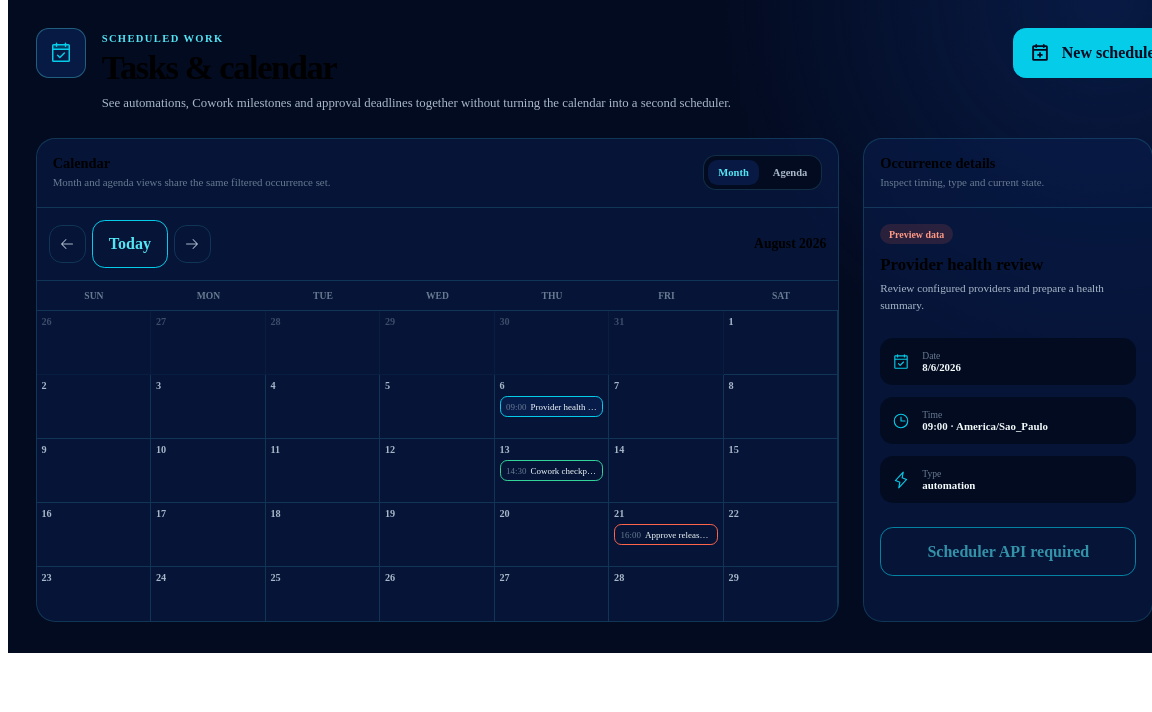
Scenario: CalendarPage › creates and selects a session schedule draft
Click the button "New schedule": {"x": 1082, "y": 53} [1013, 28, 1151, 78]
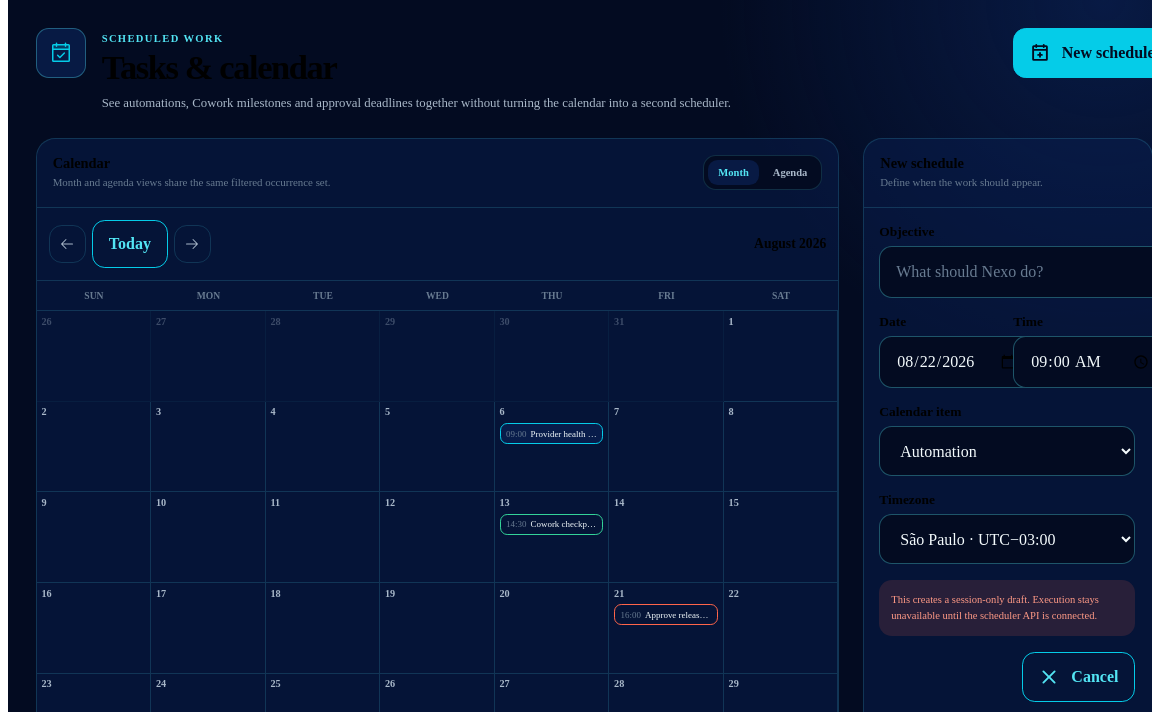
In the field labelled "Objective": {"x": 1024, "y": 272} [896, 249, 1151, 294], type "Prepare weekly product report"
(page scrolled)
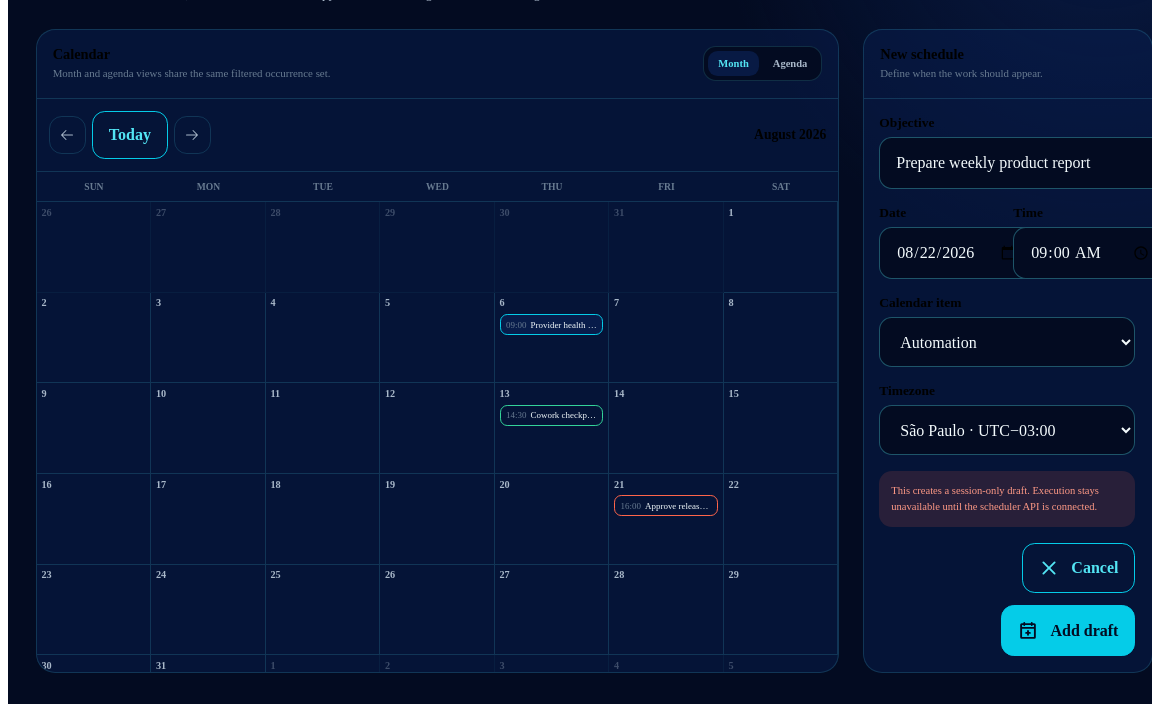
Click the button "Add draft": {"x": 1068, "y": 631} [1001, 605, 1135, 656]
(page scrolled)
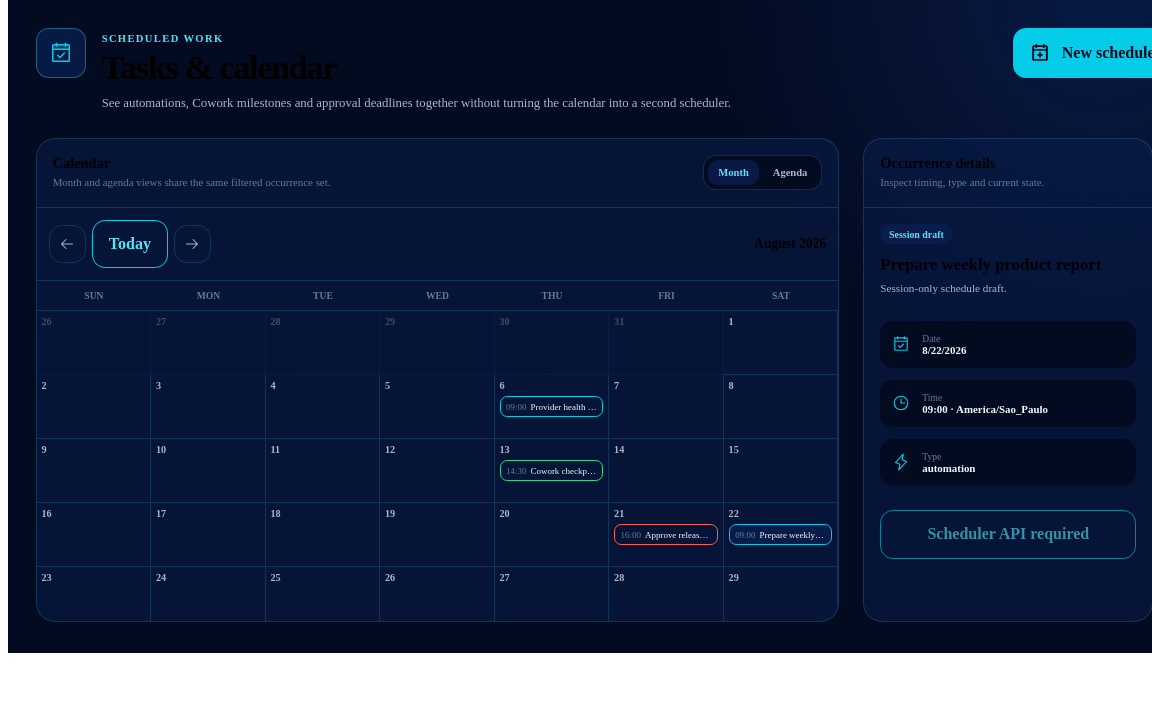
Expected: the heading "Prepare weekly product report" is shown, [880, 255, 1136, 275]
Expected: the text "Session draft" is shown, [880, 224, 953, 244]
